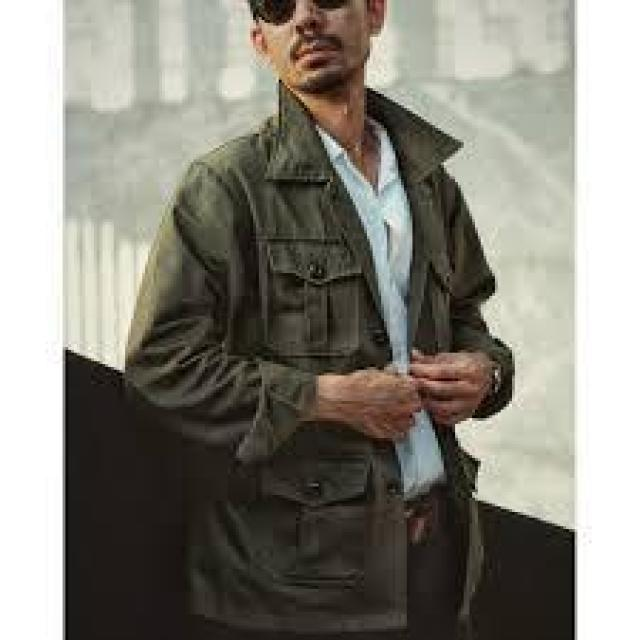jacket: (125, 97, 495, 626)
